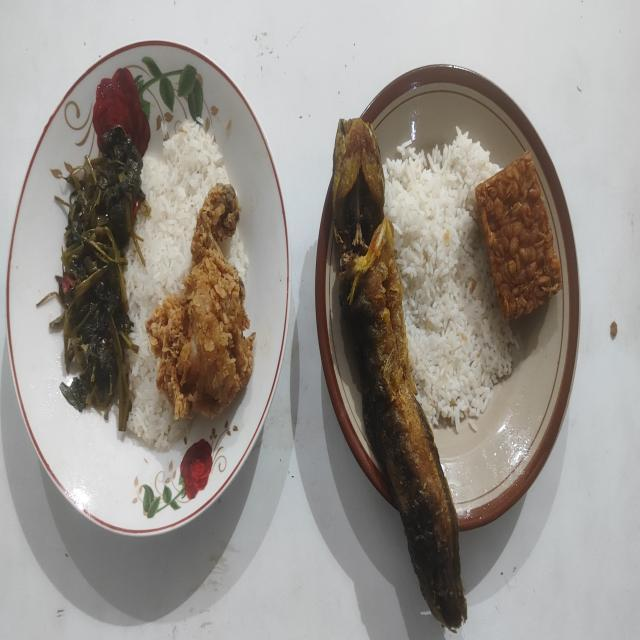nasi_putih: (384, 128, 518, 430), (124, 120, 230, 450), (228, 230, 248, 284)
tempe_goreng: (476, 153, 562, 319)
tumis_kangkung: (50, 126, 144, 430)
